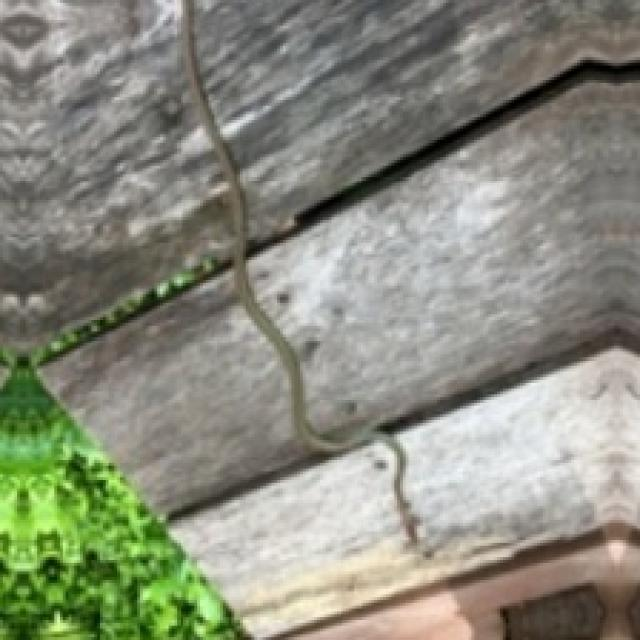paradise tree snake: (180, 0, 417, 543)
